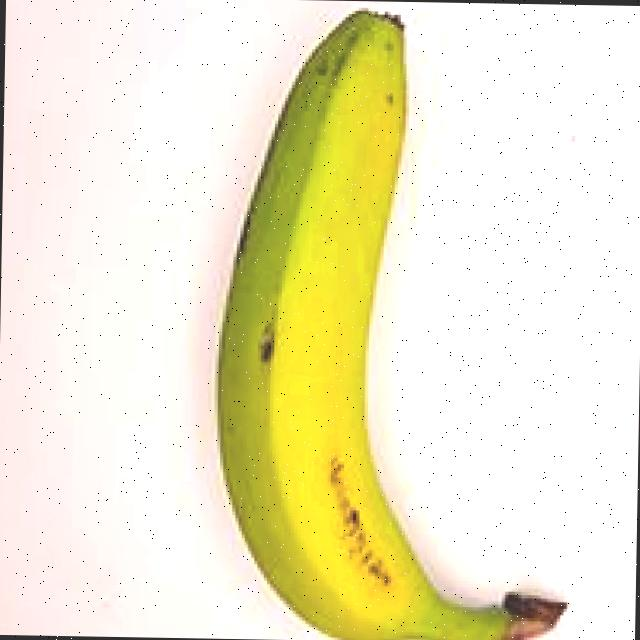Unripe: (177, 0, 616, 640)
